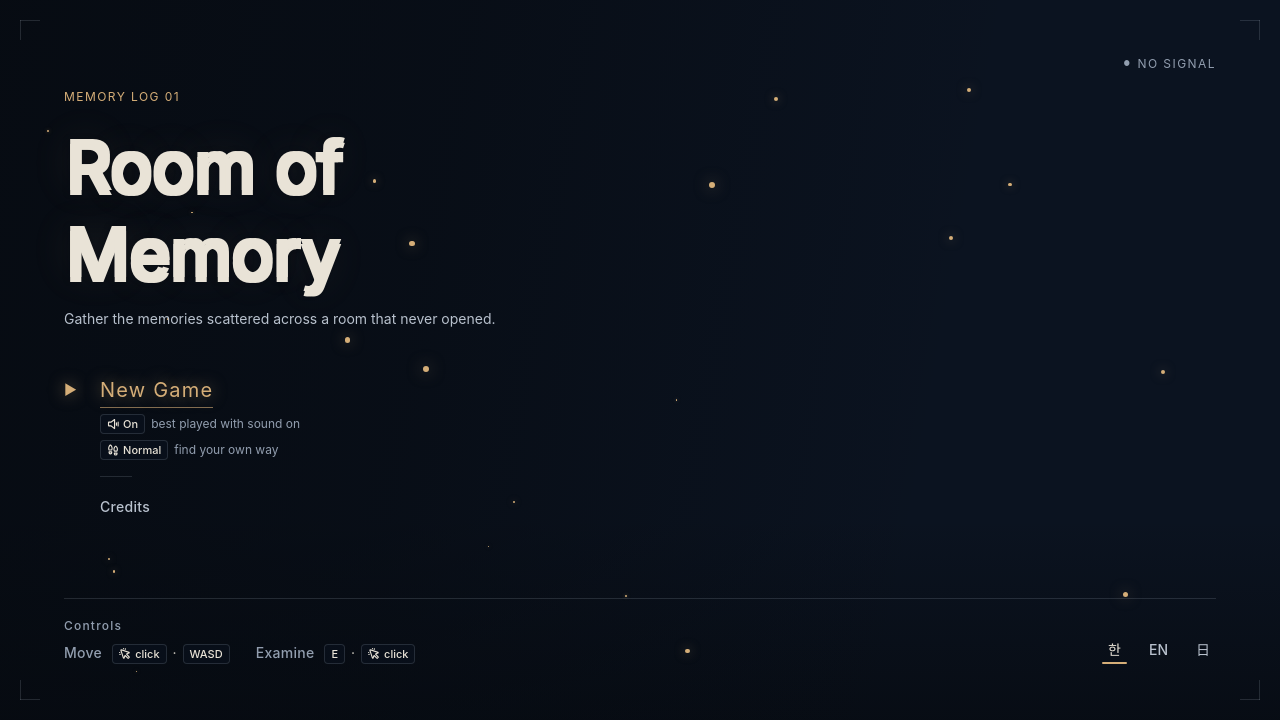
Test: TitleScreen › 소리 토글을 누르면 음소거되고 꺼짐으로 읽힌다
The image size is (1280, 720).
Click the button "On best played with sound on".
click(200, 424)  # box [100, 414, 300, 434]
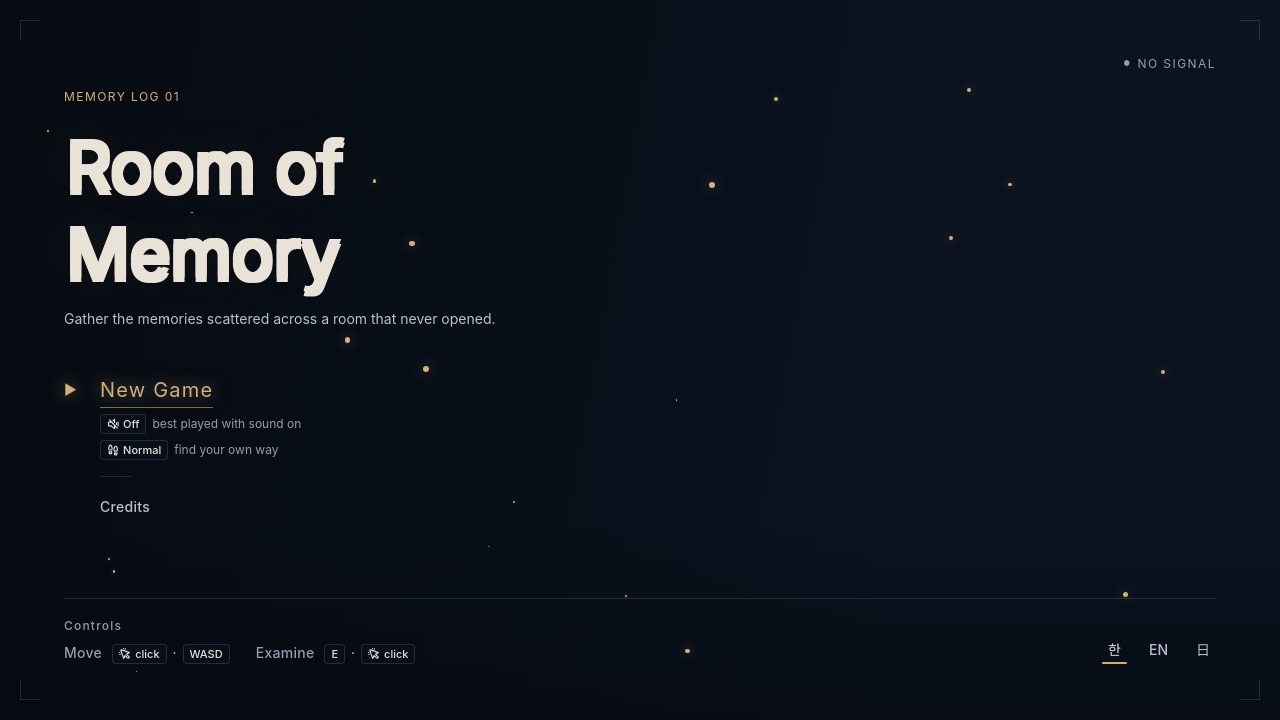
Expected: the button "Off best played with sound on" is shown, [100, 414, 301, 434]
